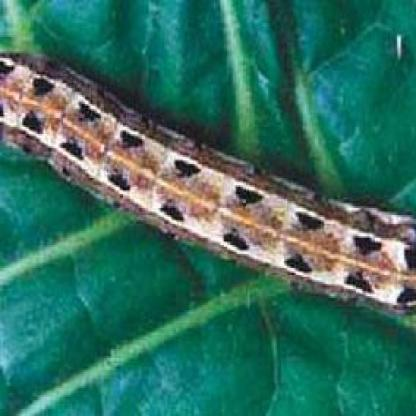armyworm: (0, 43, 416, 329)
